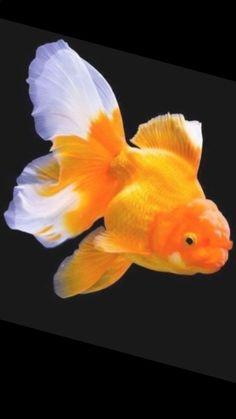goldfish: (26, 89, 233, 316)
